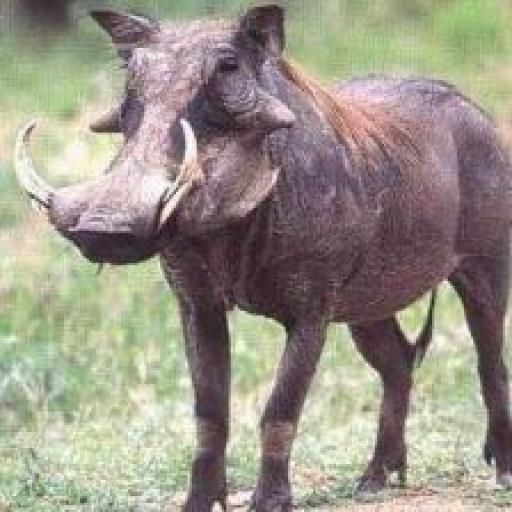Pig: (9, 2, 512, 512)
